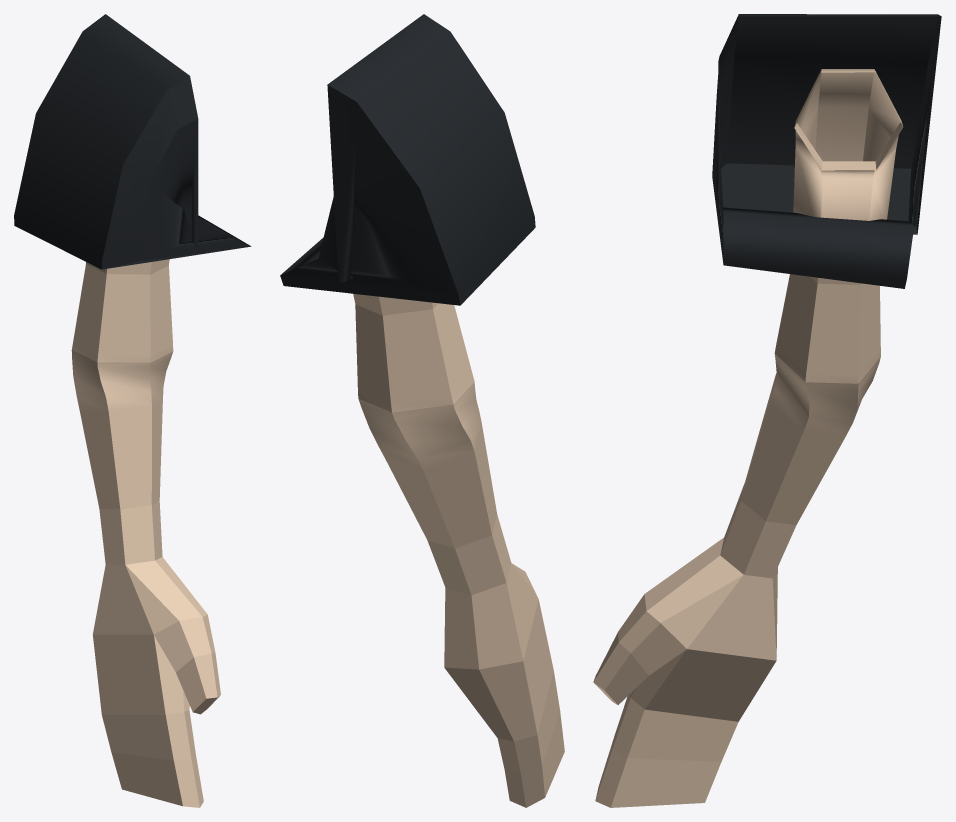
File: MujerGA_BrazoDer_Flex.obj
The picture shows the model from 3 angles, left to right: view 1: azimuth 30°, elevation 25°; view 2: azimuth 150°, elevation 25°; view 3: azimuth 270°, elevation 25°; orthographic projection. The views are drawn at different scales.
Visible parts, largest first — view 1: MujerGA_BrazoDer_Flex; view 2: MujerGA_BrazoDer_Flex; view 3: MujerGA_BrazoDer_Flex.
Part boxes in pixels (x1=…): MujerGA_BrazoDer_Flex: x1=14, y1=14, x2=251, y2=807; MujerGA_BrazoDer_Flex: x1=280, y1=14, x2=564, y2=807; MujerGA_BrazoDer_Flex: x1=593, y1=14, x2=941, y2=807.
Size of the model in its own units: 1.38 by 5.66 by 2.16.
Materials: 1 (1 with a texture image).
